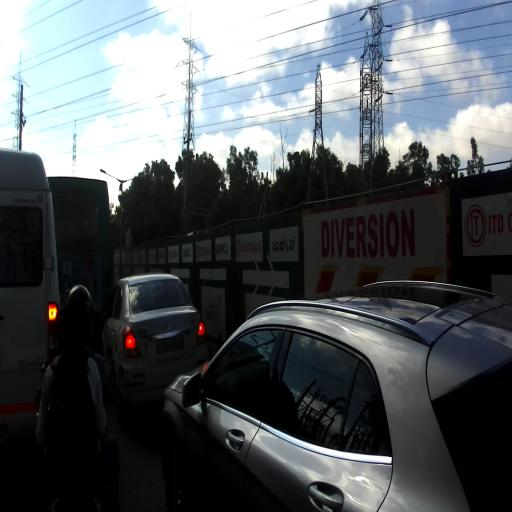street_light_0: (100, 169, 123, 191), (119, 175, 146, 191)
